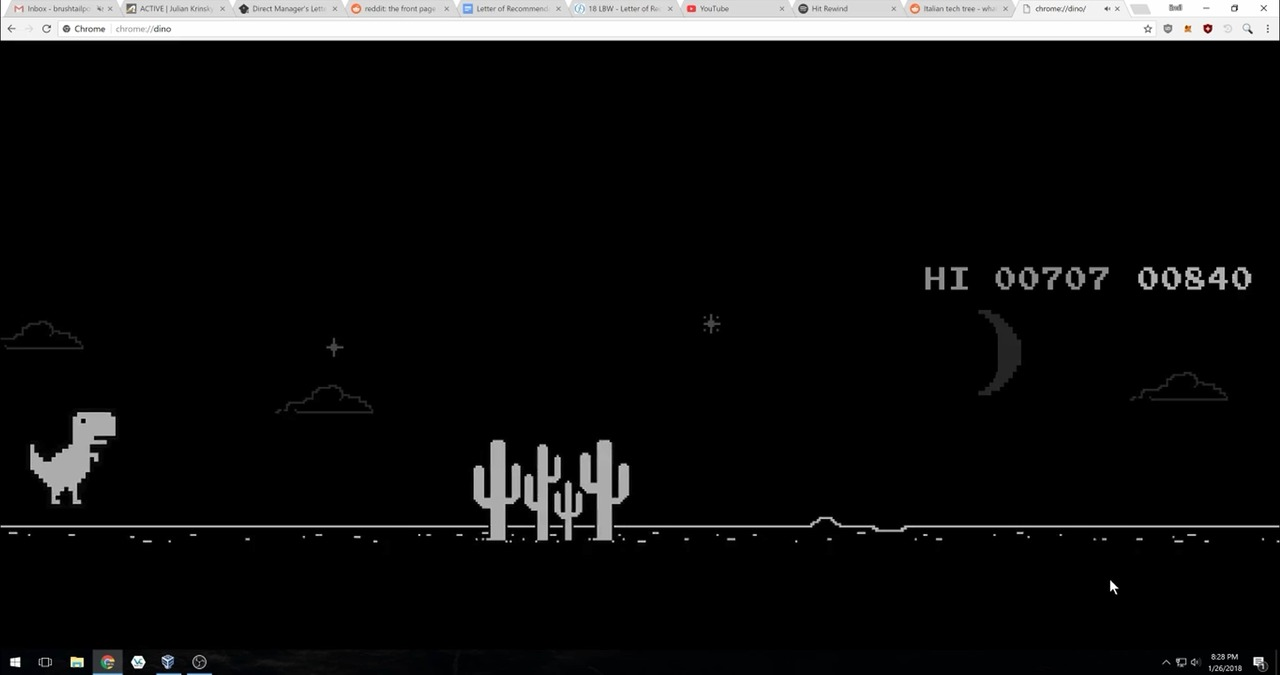cactus: (472, 438, 630, 545)
dinosaur: (30, 408, 119, 508)
